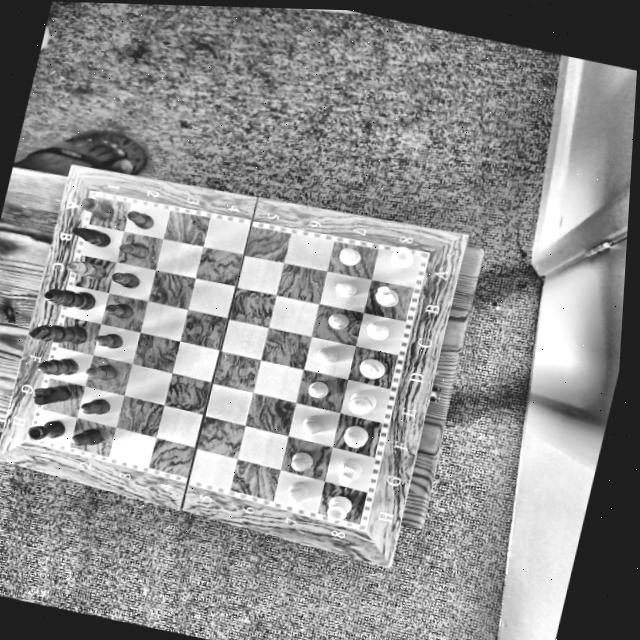black-bishop: (58, 251, 109, 286), (31, 351, 81, 381)
black-king: (20, 313, 89, 355)
black-knight: (61, 218, 116, 254), (24, 376, 74, 412)
black-pawn: (68, 422, 109, 451), (75, 391, 112, 421), (104, 265, 144, 292), (122, 206, 159, 233), (82, 360, 118, 386), (114, 237, 151, 261), (89, 328, 125, 352), (96, 299, 137, 320)
black-queen: (37, 282, 98, 317)
black-rook: (25, 413, 67, 447), (75, 194, 116, 223)
white-bishop: (357, 315, 396, 344), (335, 421, 372, 451)
white-king: (352, 354, 390, 383)
white-knight: (364, 279, 404, 313), (328, 454, 364, 490)
white-pawn: (281, 446, 321, 477), (296, 372, 335, 403), (307, 341, 346, 368), (282, 476, 312, 509), (293, 409, 328, 437), (333, 241, 365, 270), (328, 274, 360, 301), (322, 307, 351, 334)
white-queen: (340, 383, 383, 420)
white-rook: (378, 238, 422, 274), (322, 489, 355, 524)
